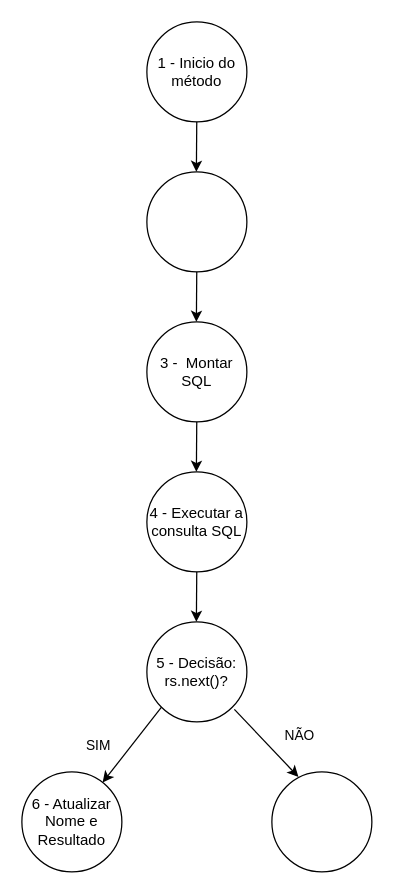
Some shapes in this 394 by 894 pixel diagram are drawn without their labels. Each missing label, with the centre of its shape:
"2 - Conectar ao Banco de Dados" goes at (196,221).
"7 - Retornar Falso" goes at (321,821).
